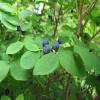Blueberry leaf: (58, 50, 88, 80), (34, 53, 59, 78), (74, 42, 92, 71), (9, 58, 29, 83), (20, 49, 41, 71), (5, 41, 25, 55), (0, 60, 10, 83), (24, 38, 40, 52), (4, 13, 20, 27), (18, 9, 34, 19), (21, 23, 33, 33)
